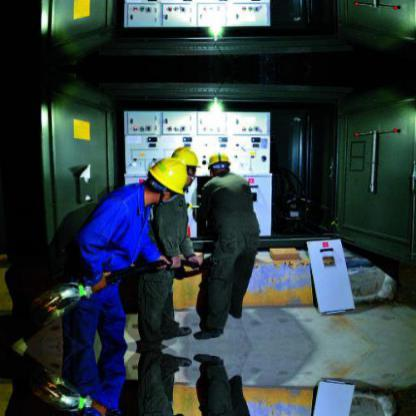helmet: (147, 156, 188, 196), (170, 146, 196, 184), (204, 150, 230, 174)
person: (63, 156, 186, 345), (199, 150, 262, 337), (140, 145, 196, 344), (62, 347, 186, 414), (198, 355, 262, 414), (140, 348, 197, 414)
